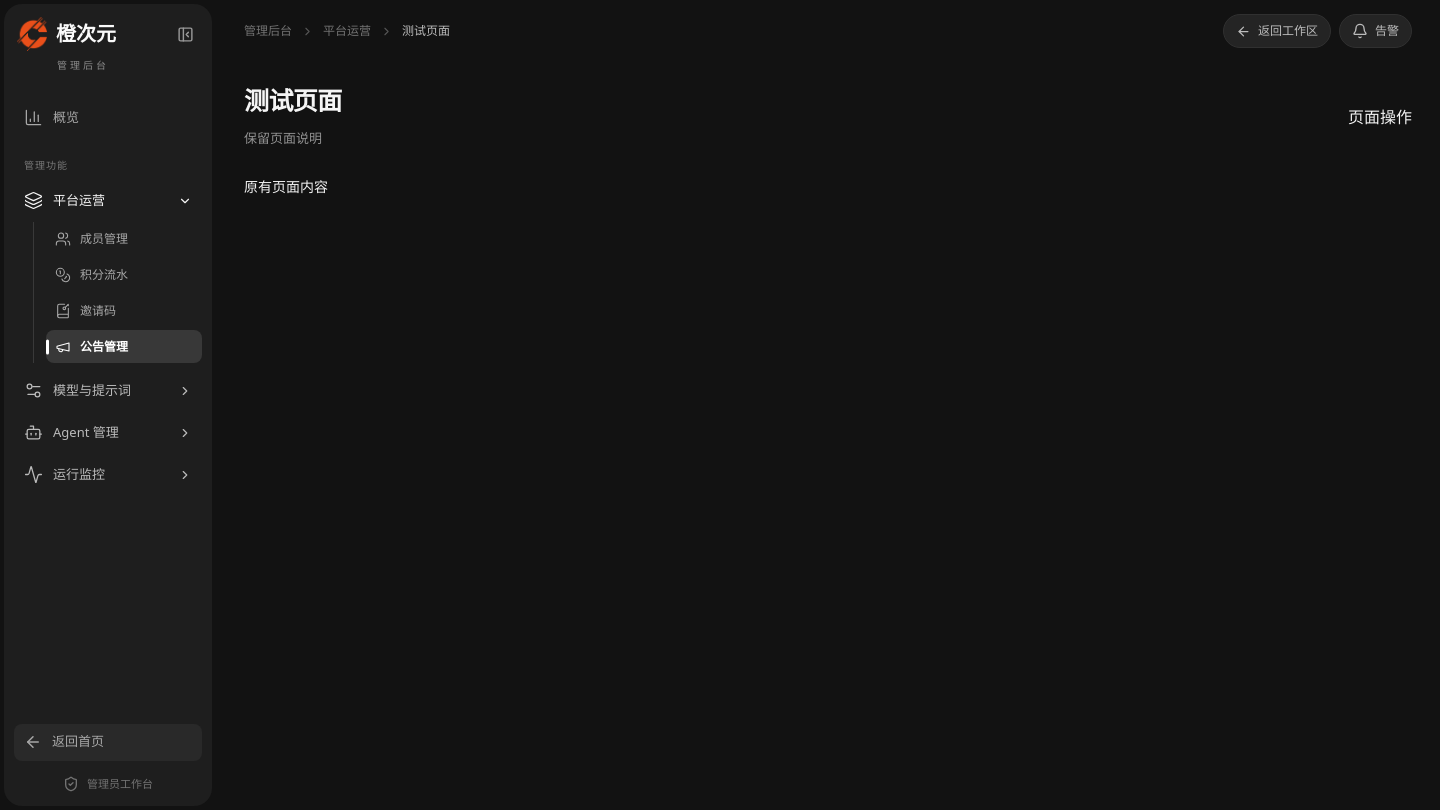
Test: 后台分级导航 › 页面切换更新当前项并自动展开新分组
Click the button "运行监控" at (108, 474), box [14,456,202,493]
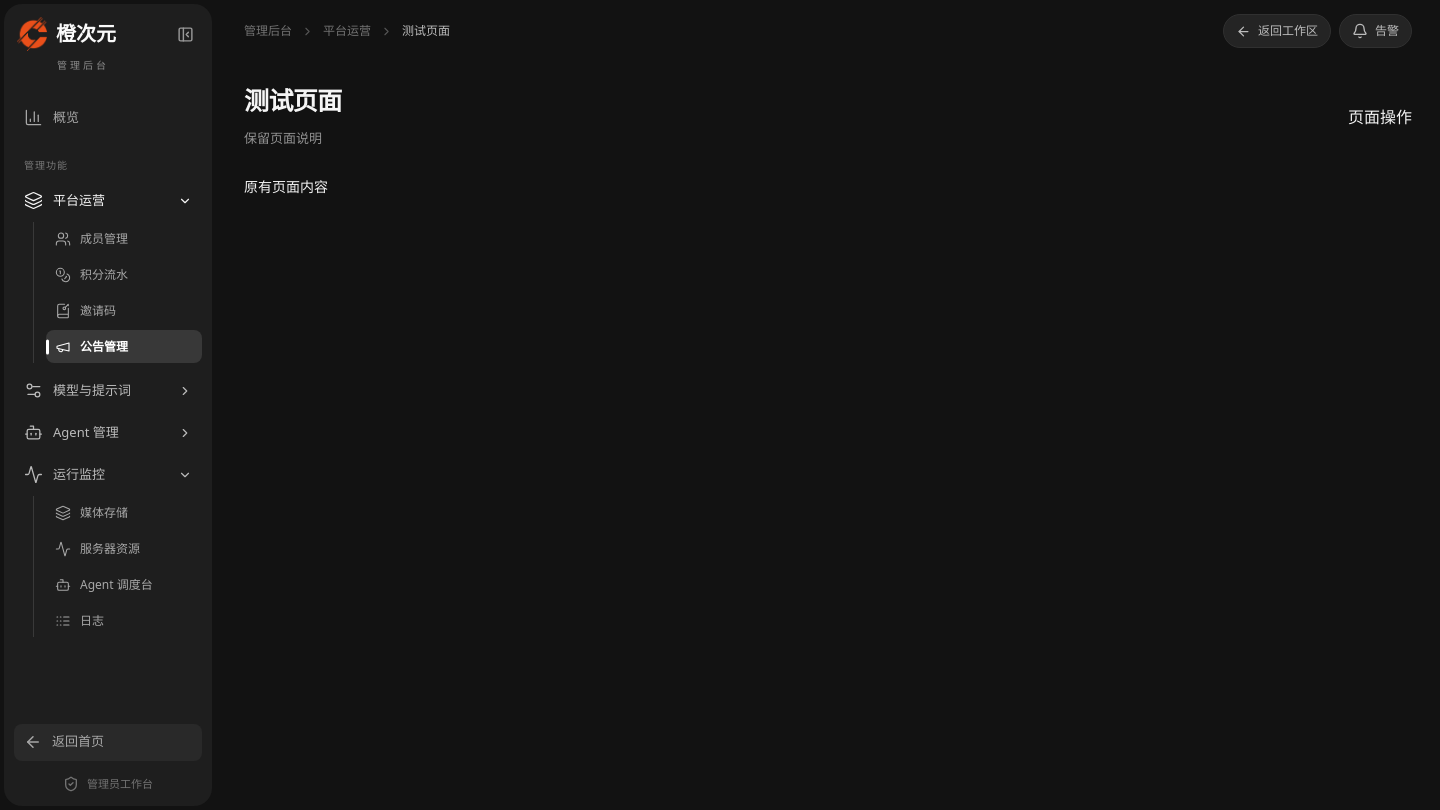
Click the link "日志" at (80, 620), box [55,612,104,628]
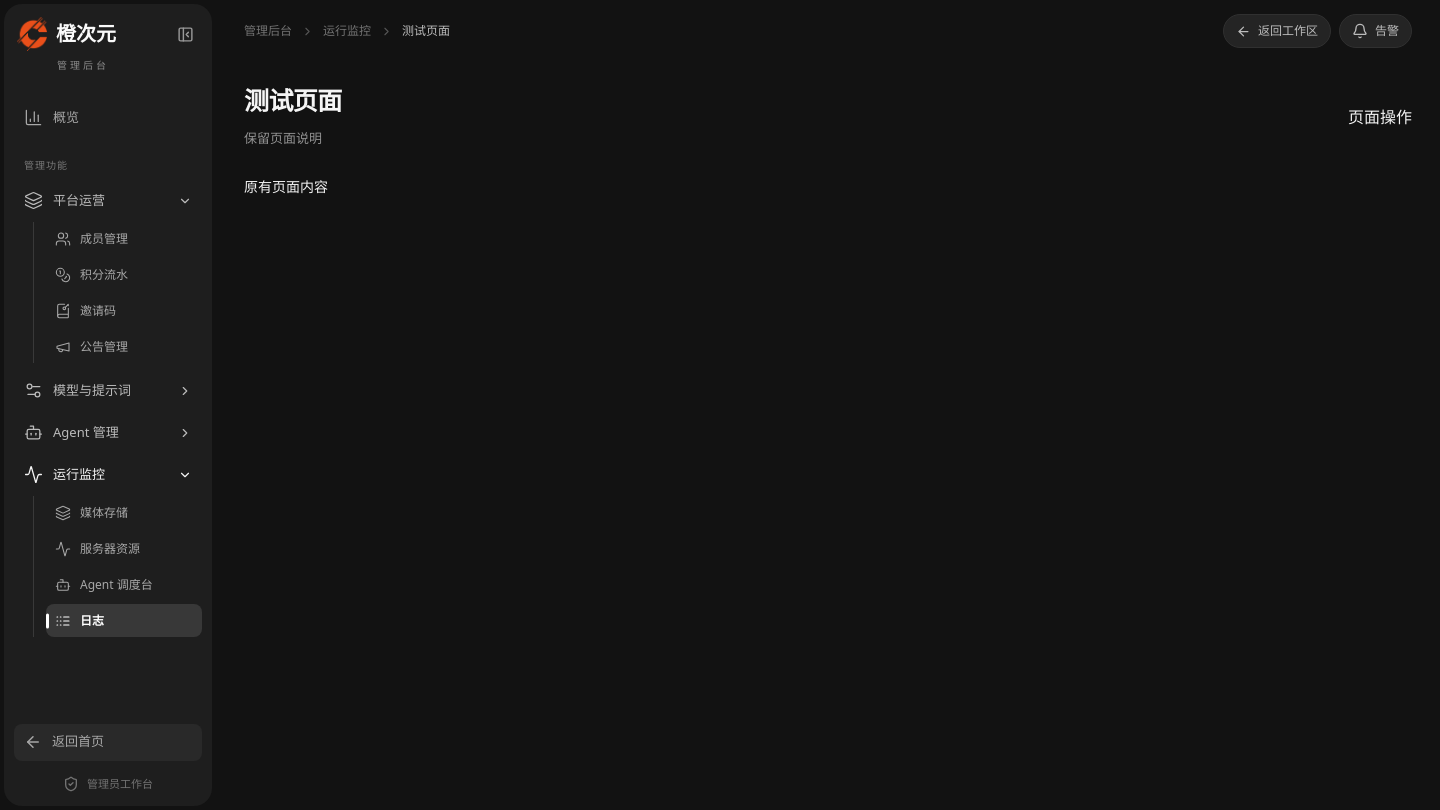
Check: the button "运行监控" is expanded, box [14,456,202,493]
Check: the navigation bar with class "admin-breadcrumb" shows "运行监控", box [323,22,371,39]
